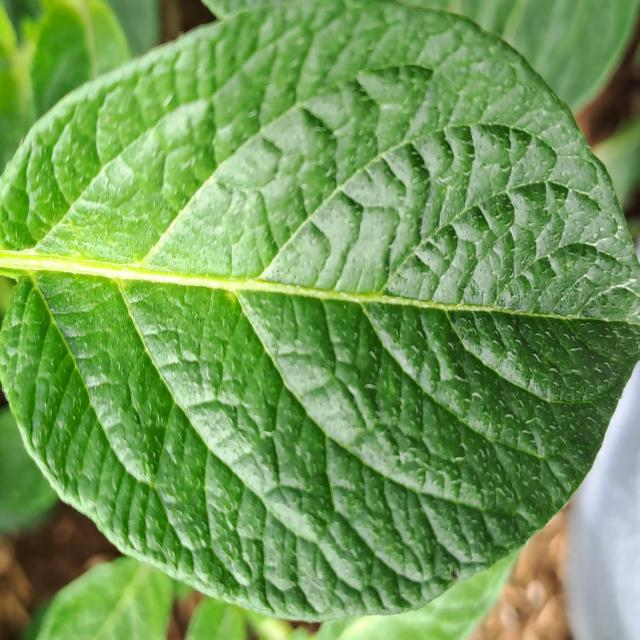healthy: (2, 2, 637, 626)
